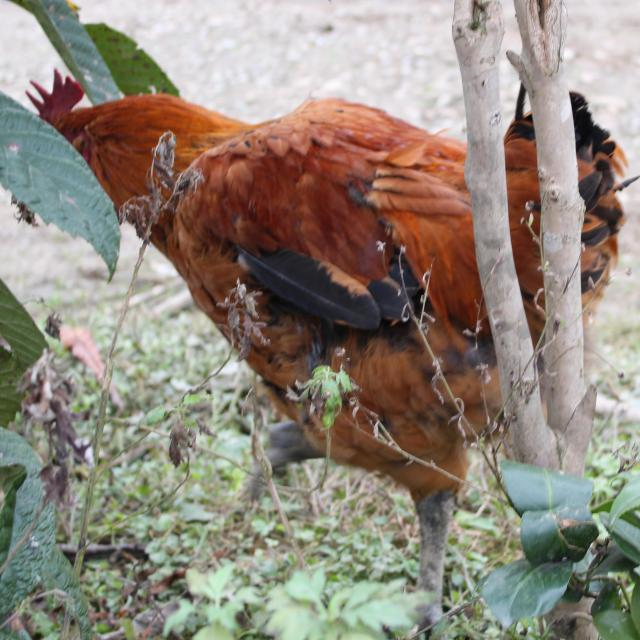cook: (570, 90, 634, 306), (503, 106, 546, 340)
